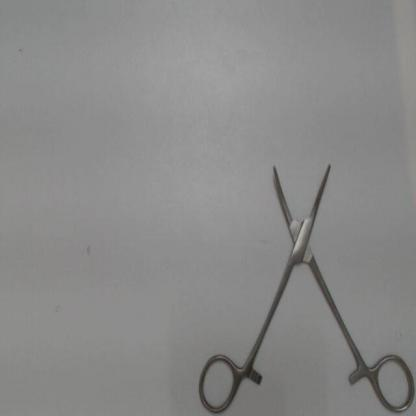Crile Artery Forceps: (186, 154, 416, 414)
